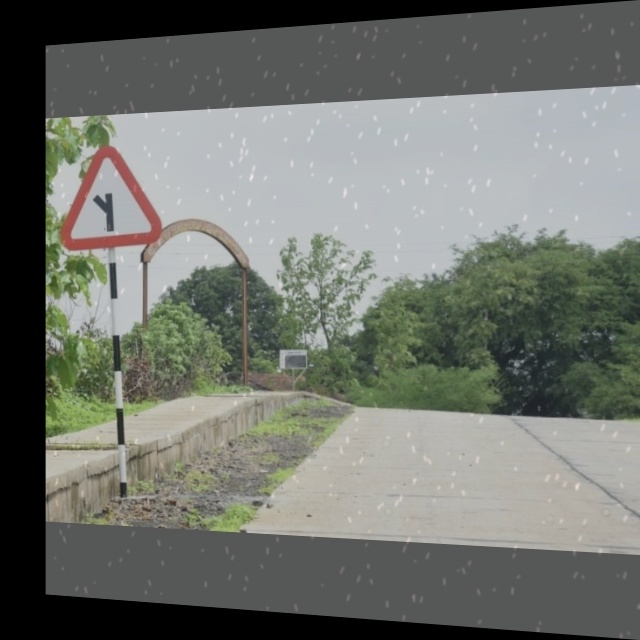Y_Intersection: (62, 141, 164, 251)
